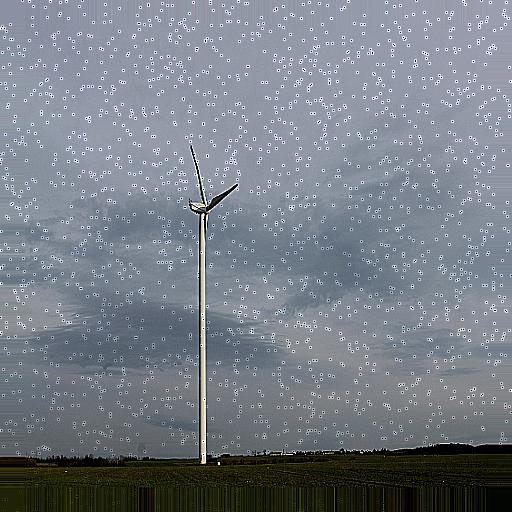wind turbine: (180, 145, 239, 456)
